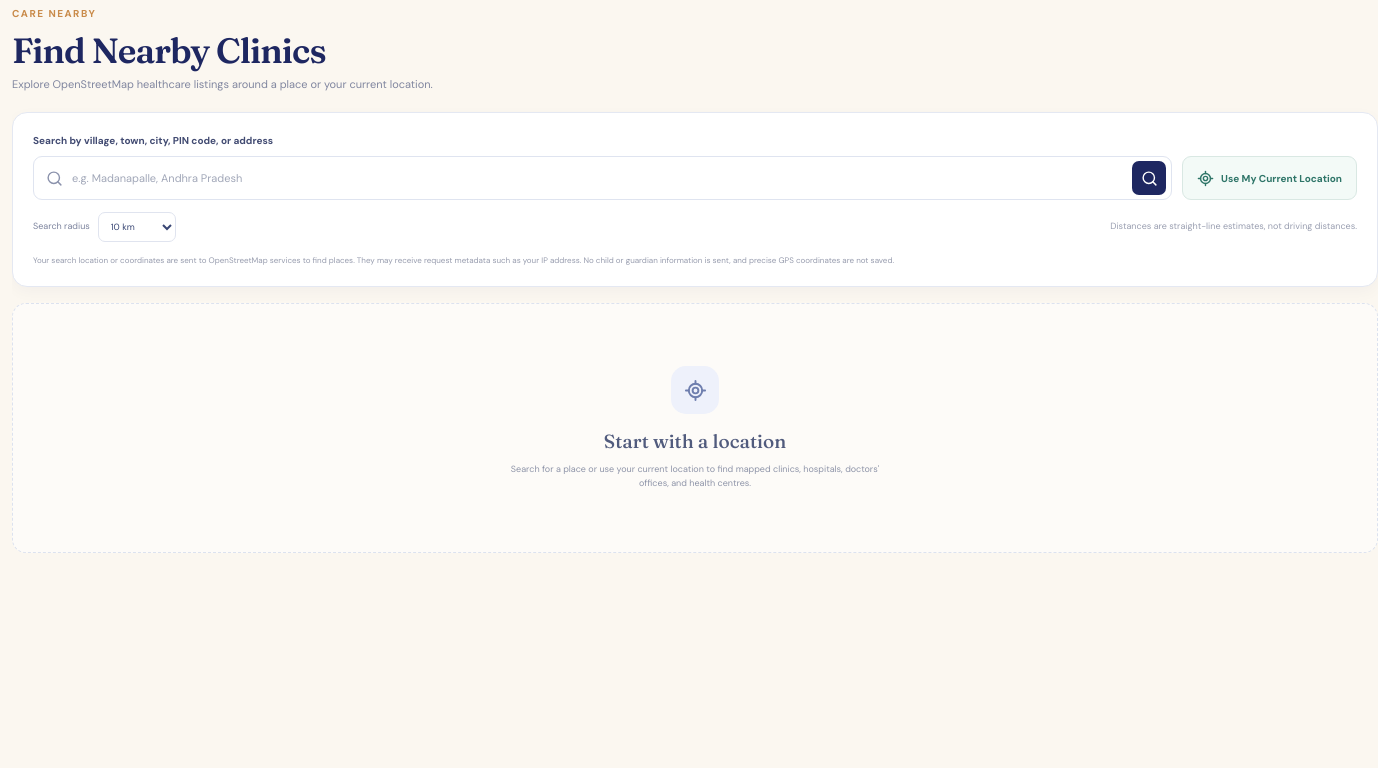
Test case: ClinicsPage › explains when geolocation is unsupported and keeps manual search available
This screenshot has width=1378, height=768.
Click the button "Use My Current Location" at (1270, 178), box [1182,156,1357,200]
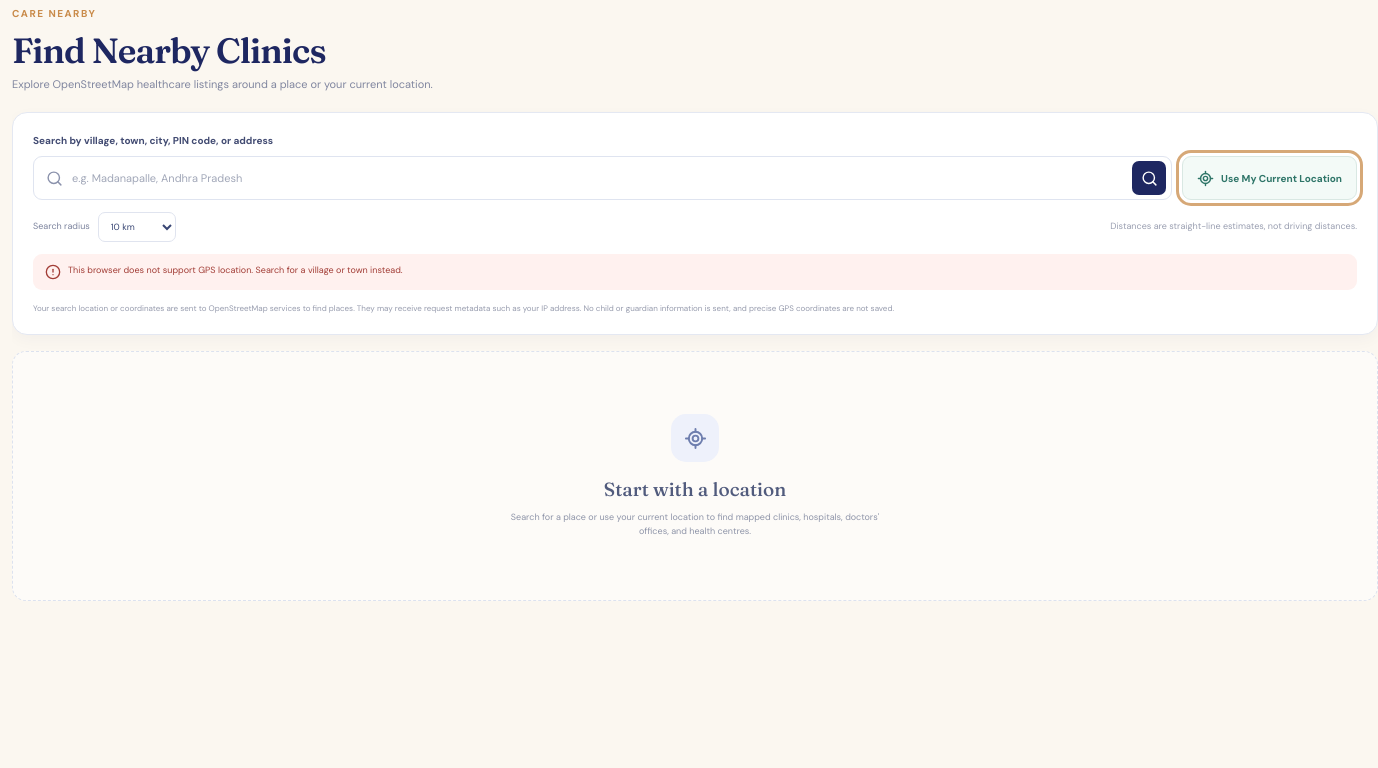
Expected: the field labelled "Search by village, town, city, PIN code, or address" is enabled, [72,162,1123,194]
Expected: the text "This browser does not support GPS location" is shown, [68,264,403,276]
